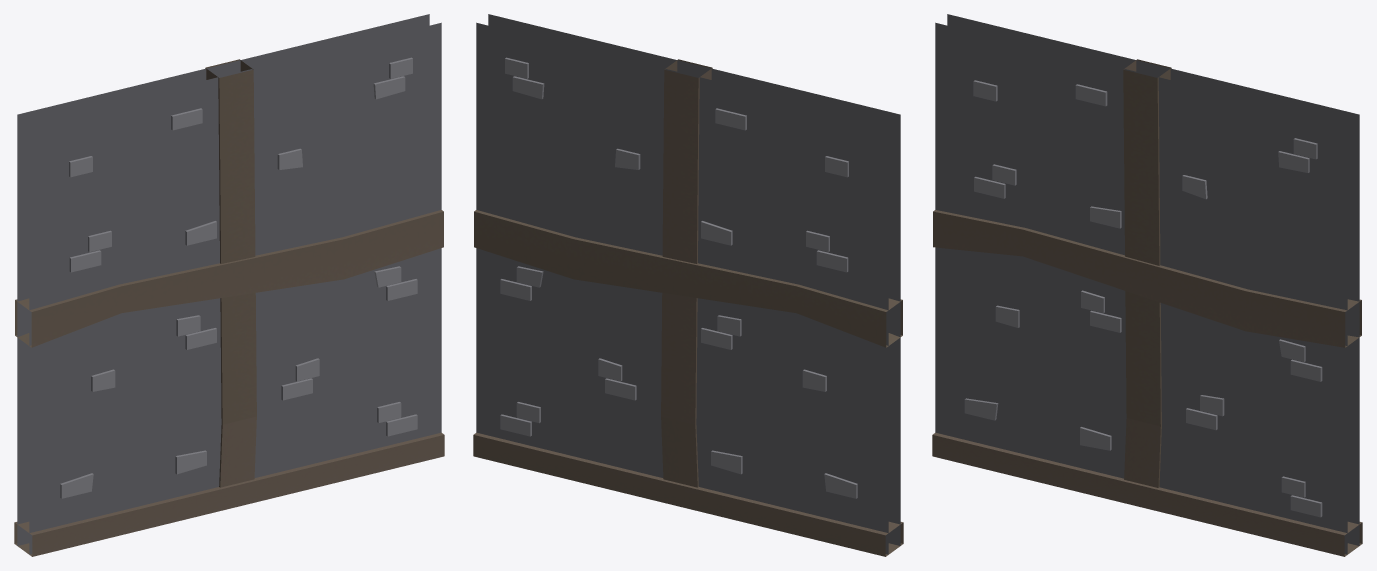
The model's file is Wall_2C.fbx.
3 renders of one model, left to right at view 1: azimuth 30°, elevation 25°; view 2: azimuth 150°, elevation 25°; view 3: azimuth 330°, elevation 25°, orthographic.
Parts seen in each view (by area): view 1: pCube770; view 2: pCube770; view 3: pCube770.
Boxes of the visible parts, box(x1,y1,x2,y2) form: pCube770: box(14, 14, 444, 556); pCube770: box(473, 14, 903, 556); pCube770: box(932, 14, 1362, 556).
Size of the model in its own units: 400 by 400 by 30.
